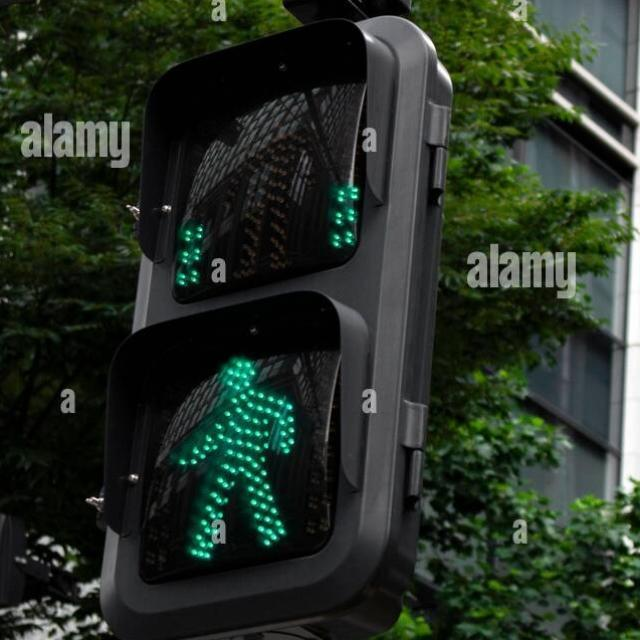green_light: (148, 348, 302, 570)
